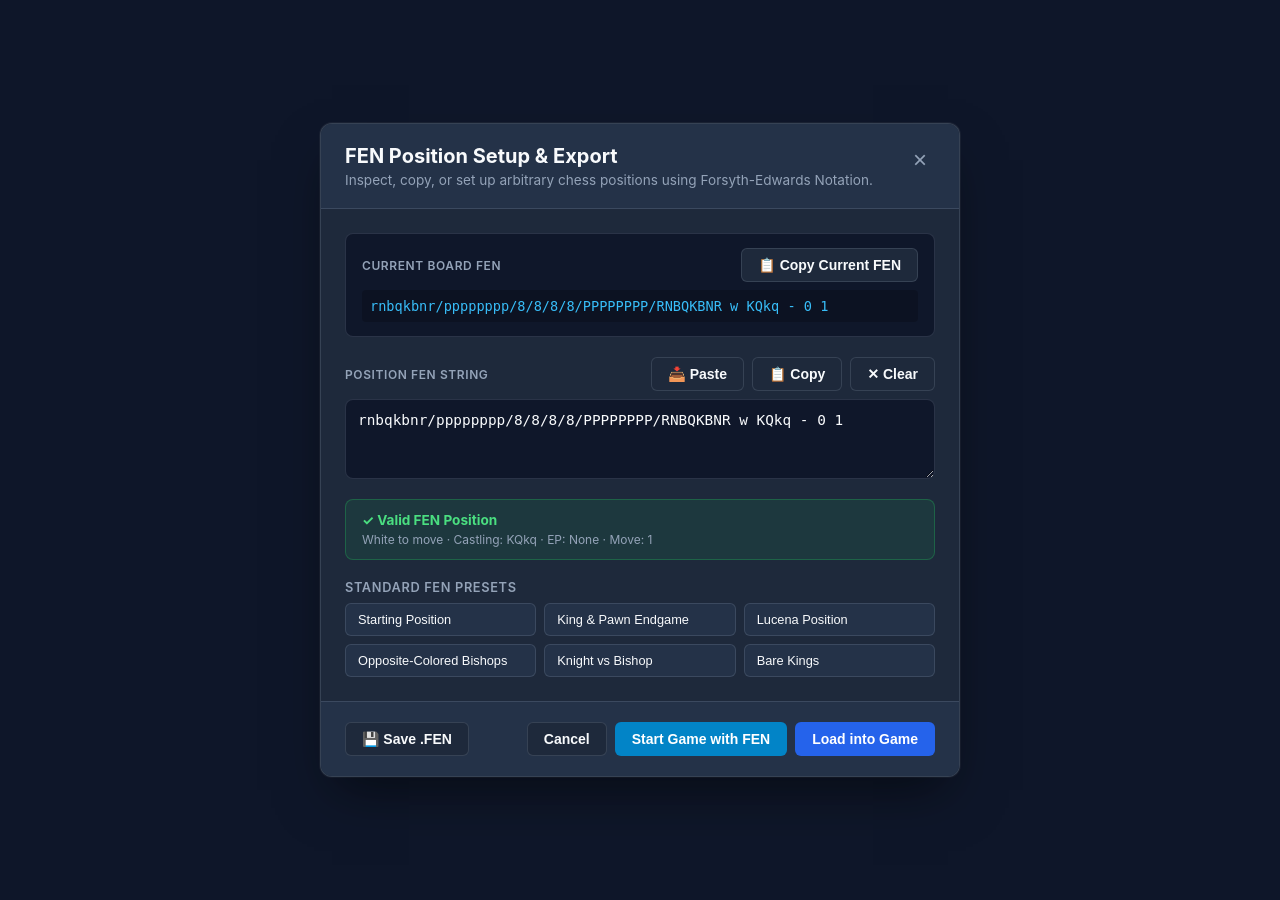
Test: FenModal UI Component Tests (Phase 08 · Sprint 04) › TC-FEN-UI-05: selects standard FEN presets and updates input & validation
This screenshot has width=1280, height=900.
Click the button with test id "btn-preset-lucena" at (839, 620), box x1=744 y1=603 x2=935 y2=636
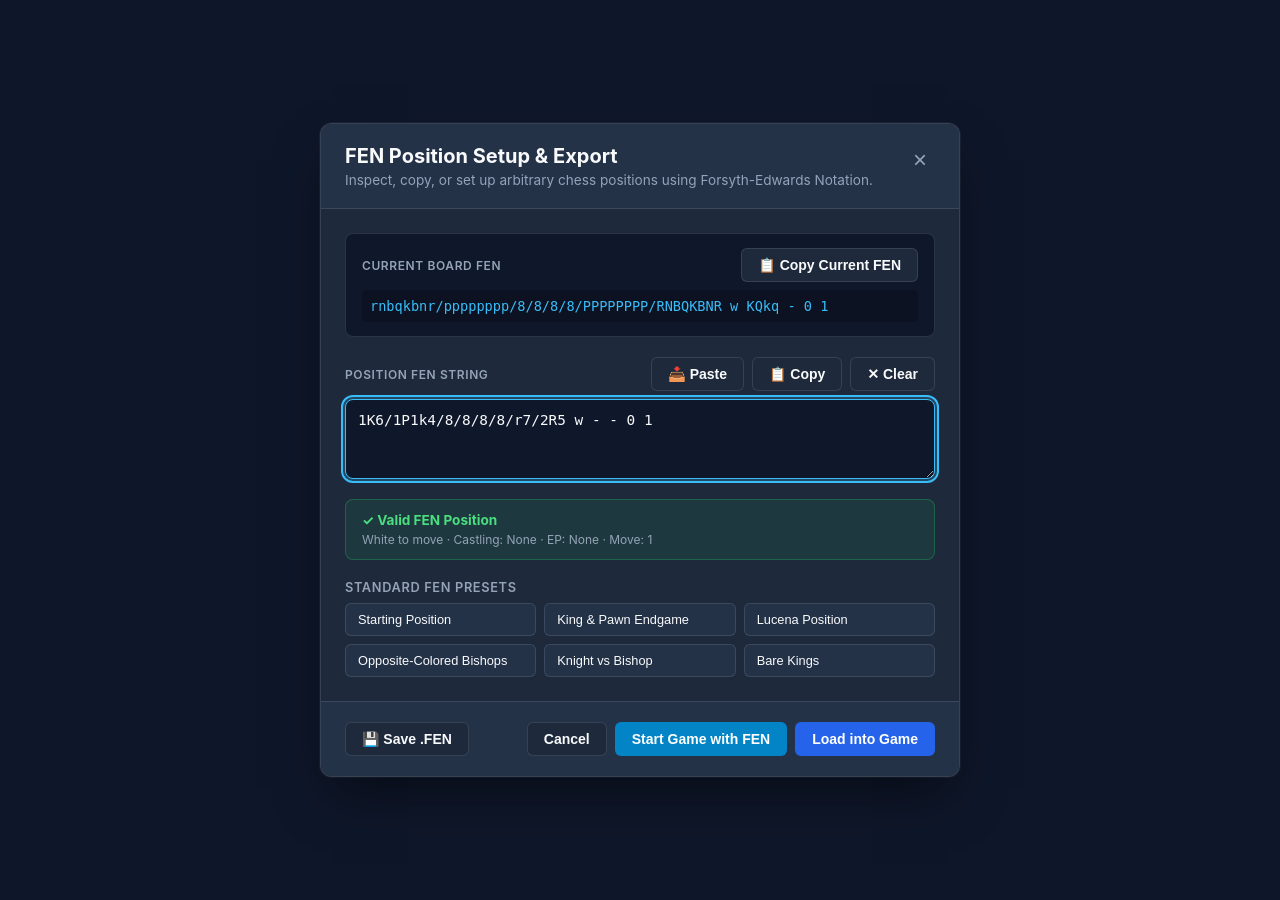
Check: the text box with test id "fen-input-textarea" holds "1K6/1P1k4/8/8/8/8/r7/2R5 w - - 0 1", box x1=345 y1=399 x2=935 y2=479
